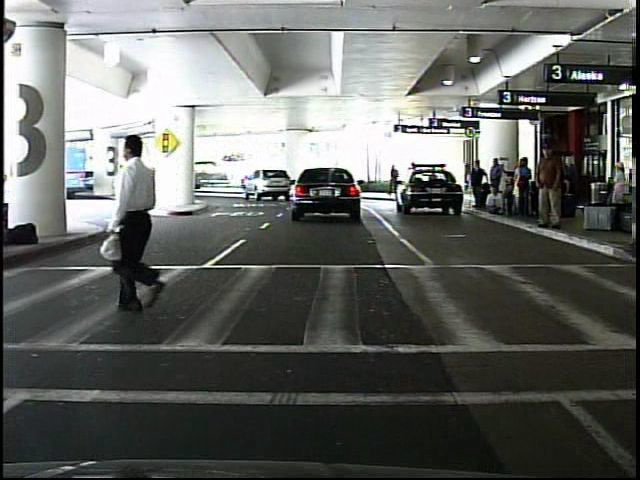person: (85, 127, 201, 312), (532, 142, 567, 233), (469, 158, 488, 210), (386, 164, 400, 197), (133, 164, 135, 189)
